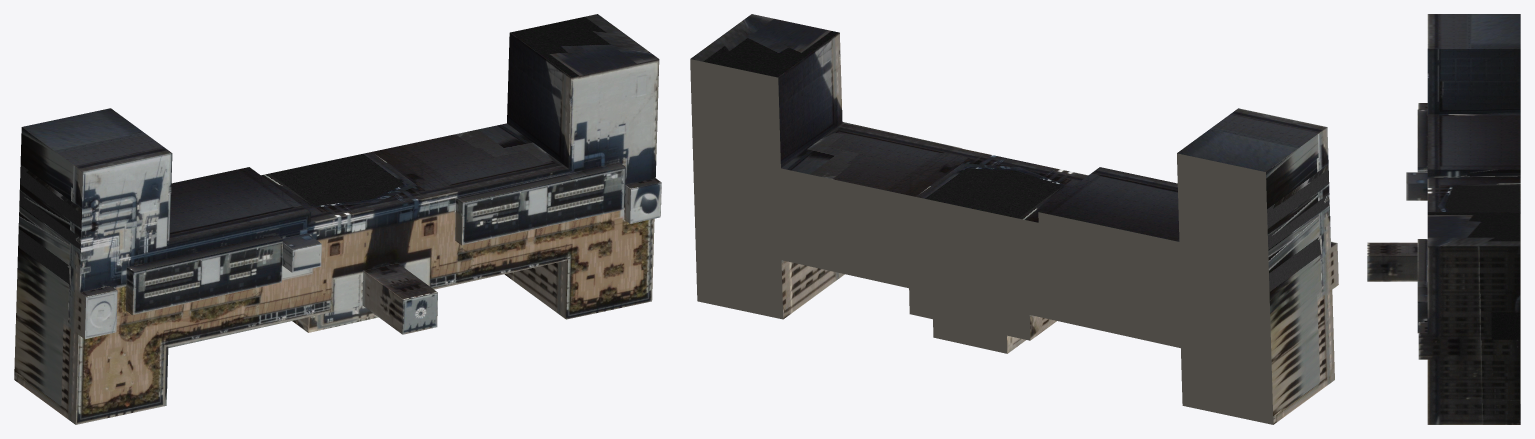
Rendered from KyotoShiyakusyo.fbx.
3 renders of one model, left to right at view 1: azimuth 30°, elevation 25°; view 2: azimuth 150°, elevation 25°; view 3: azimuth 270°, elevation 25°, orthographic. The views are drawn at different scales.
Parts seen in each view (by area): view 1: KyotoShiyakusyo; view 2: KyotoShiyakusyo; view 3: KyotoShiyakusyo.
Boxes of the visible parts, bbox=[...] form: KyotoShiyakusyo: bbox=[14, 14, 661, 424]; KyotoShiyakusyo: bbox=[690, 14, 1338, 424]; KyotoShiyakusyo: bbox=[1367, 14, 1520, 424].
Bounding box in the file's own units: 113 × 34.13 × 49.62.
2 materials, 2 textured.
